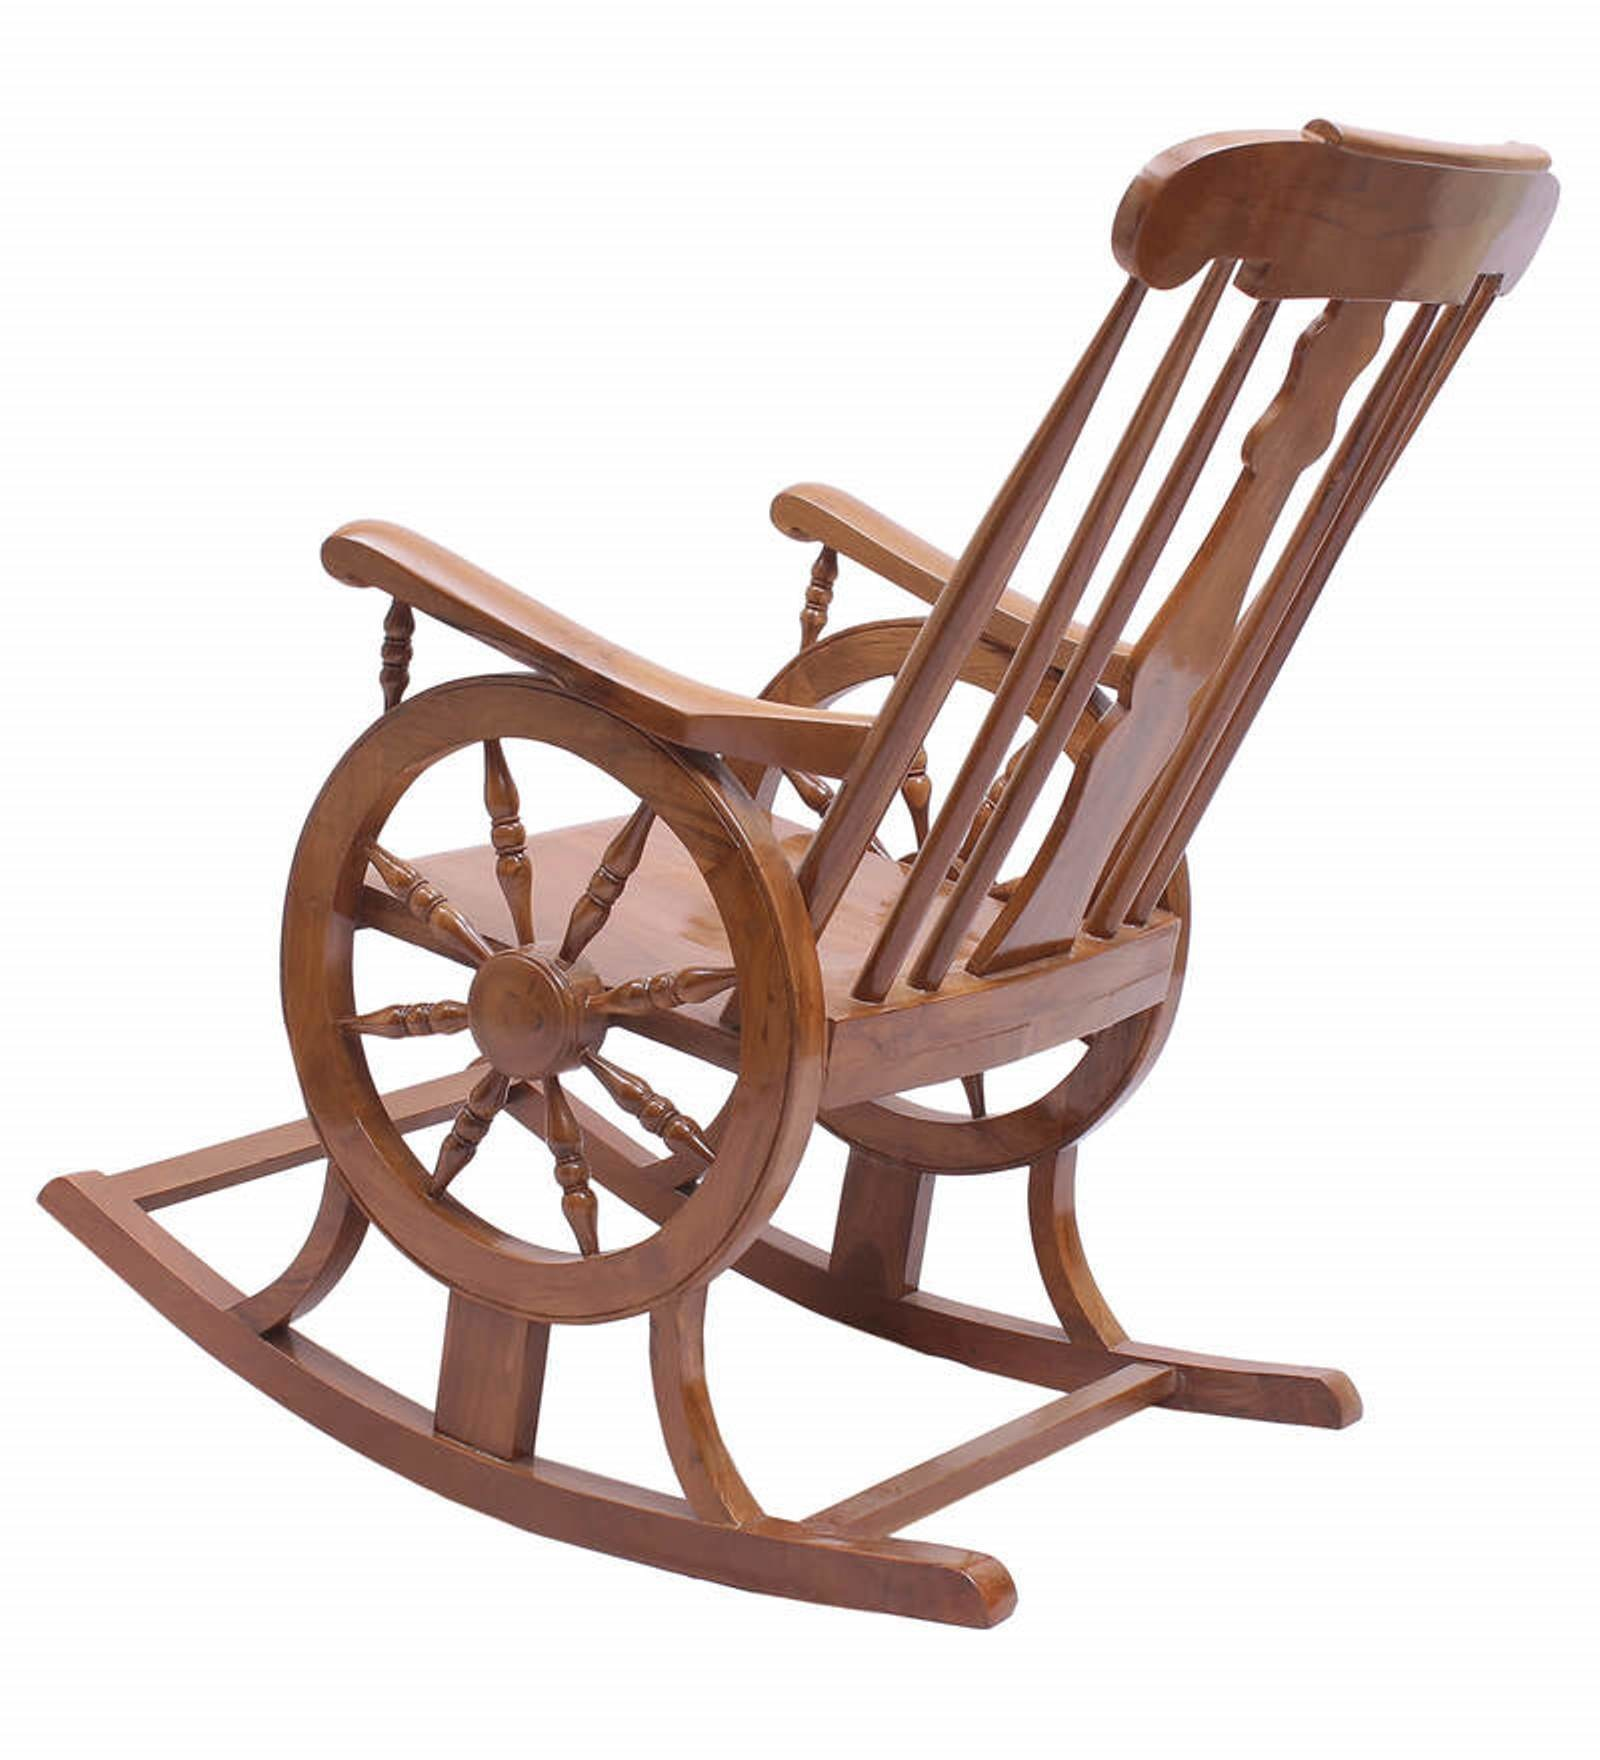Chelmsford Teak Wood Rocking Chair in Composite Teak Finish by Finesse: (25, 94, 1600, 1693)
